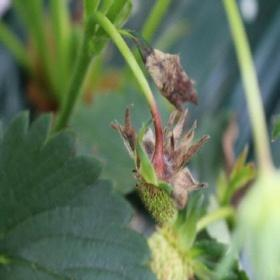Gray Mold: (109, 104, 210, 211)
